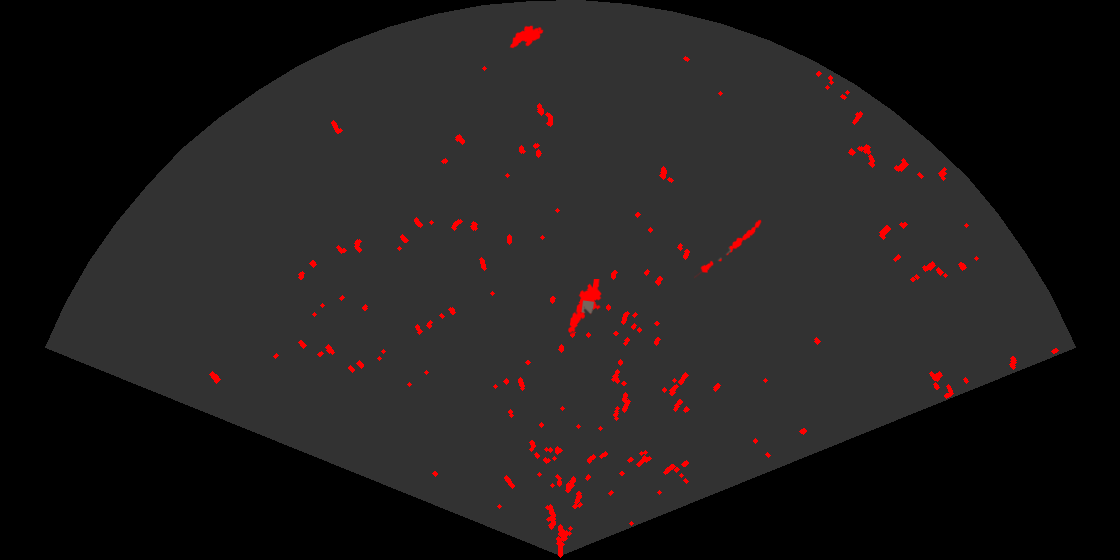AUV: (508, 24, 545, 50)
chain: (694, 218, 763, 280)
frogman: (567, 279, 603, 335)
